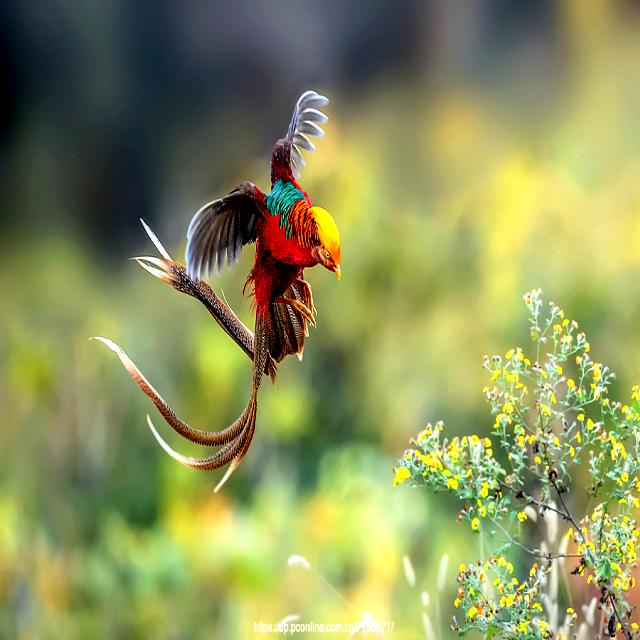Chrysolophus pictus feather: (90, 220, 314, 491)
